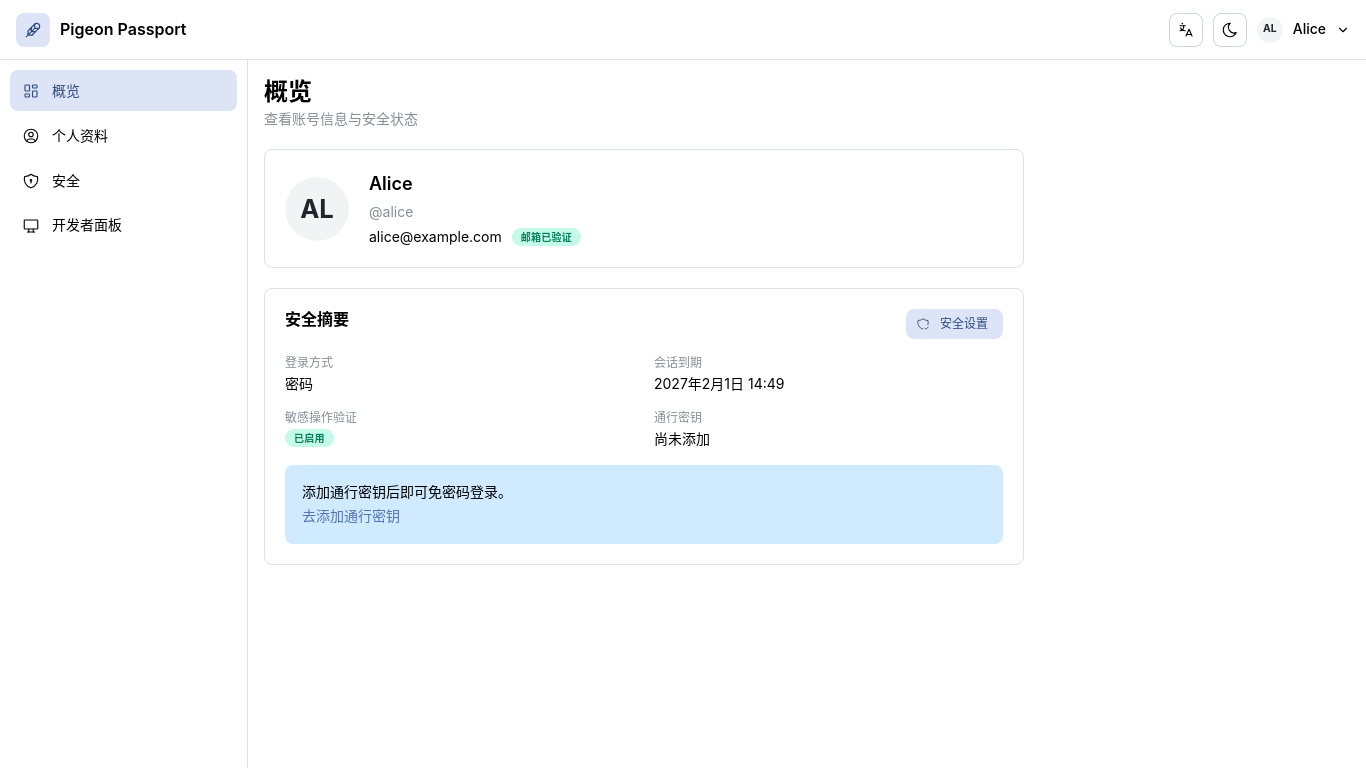
Test case: developer panel › shows the sidebar entry for developers and keeps it out of the avatar menu
This screenshot has width=1366, height=768.
Check: the link "开发者面板" is shown, box [22,216,122,235]
Click the button with aria-label "用户菜单": click(1303, 30) [1257,16,1350,42]
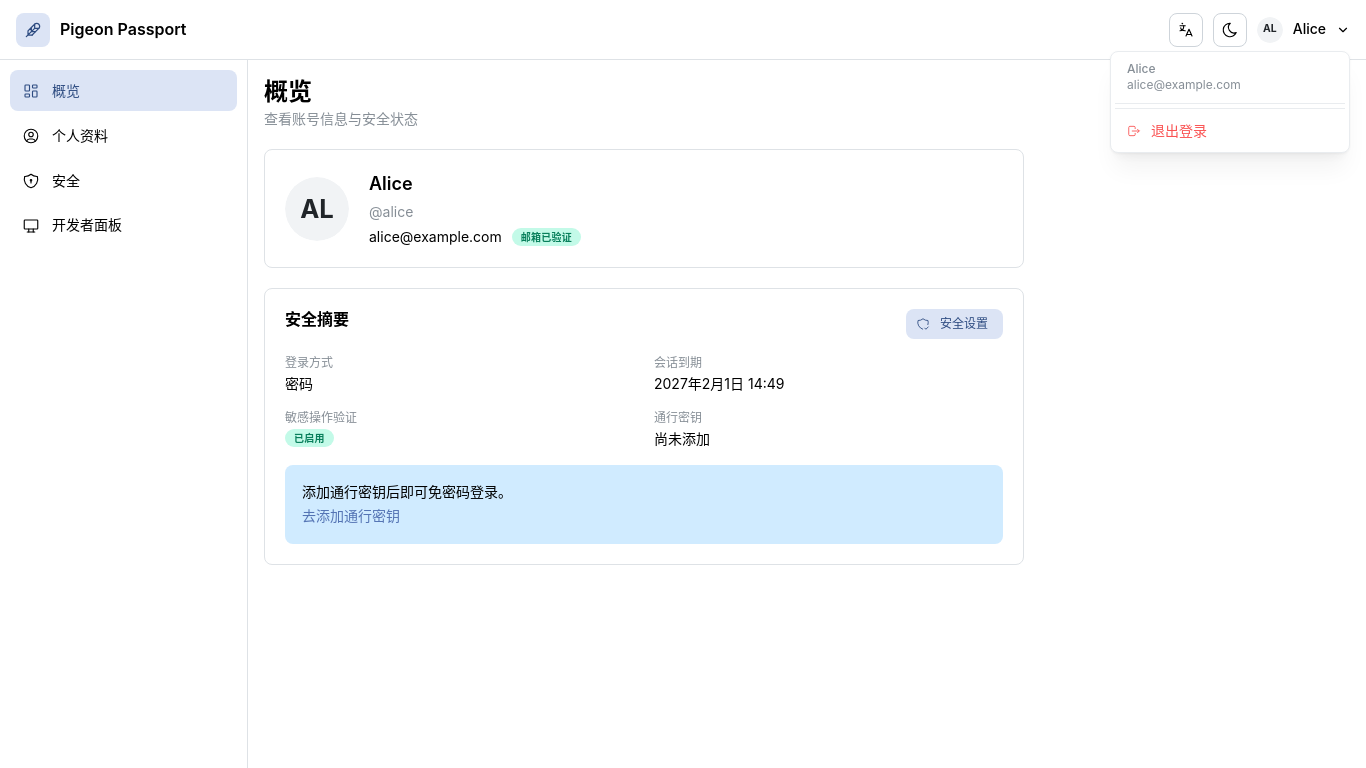
Check: the menu is shown, box [1110,50,1350,153]
